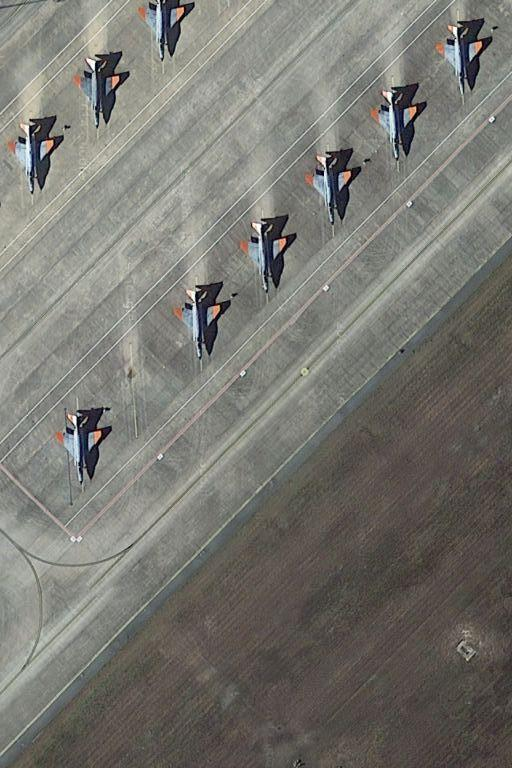plane: (435, 15, 493, 106), (173, 278, 227, 375), (305, 144, 358, 241), (370, 78, 423, 174), (240, 211, 290, 308), (55, 404, 107, 497), (8, 115, 59, 209), (72, 49, 124, 139), (134, 4, 196, 63)
